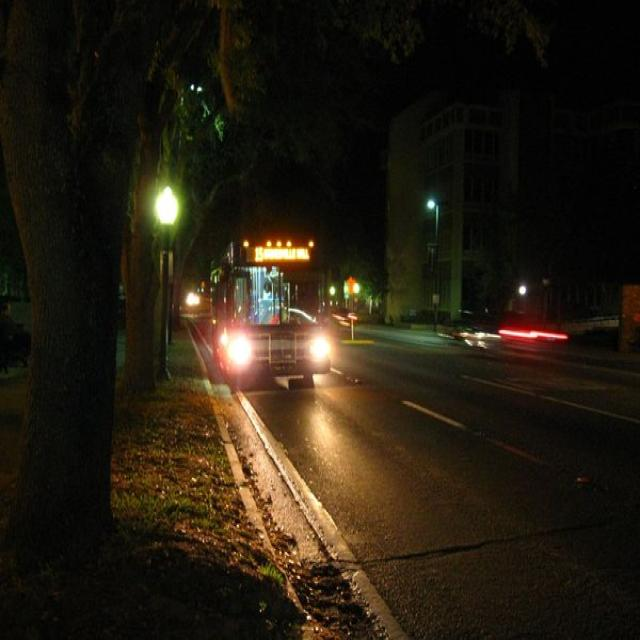Bus: (205, 207, 360, 455)
